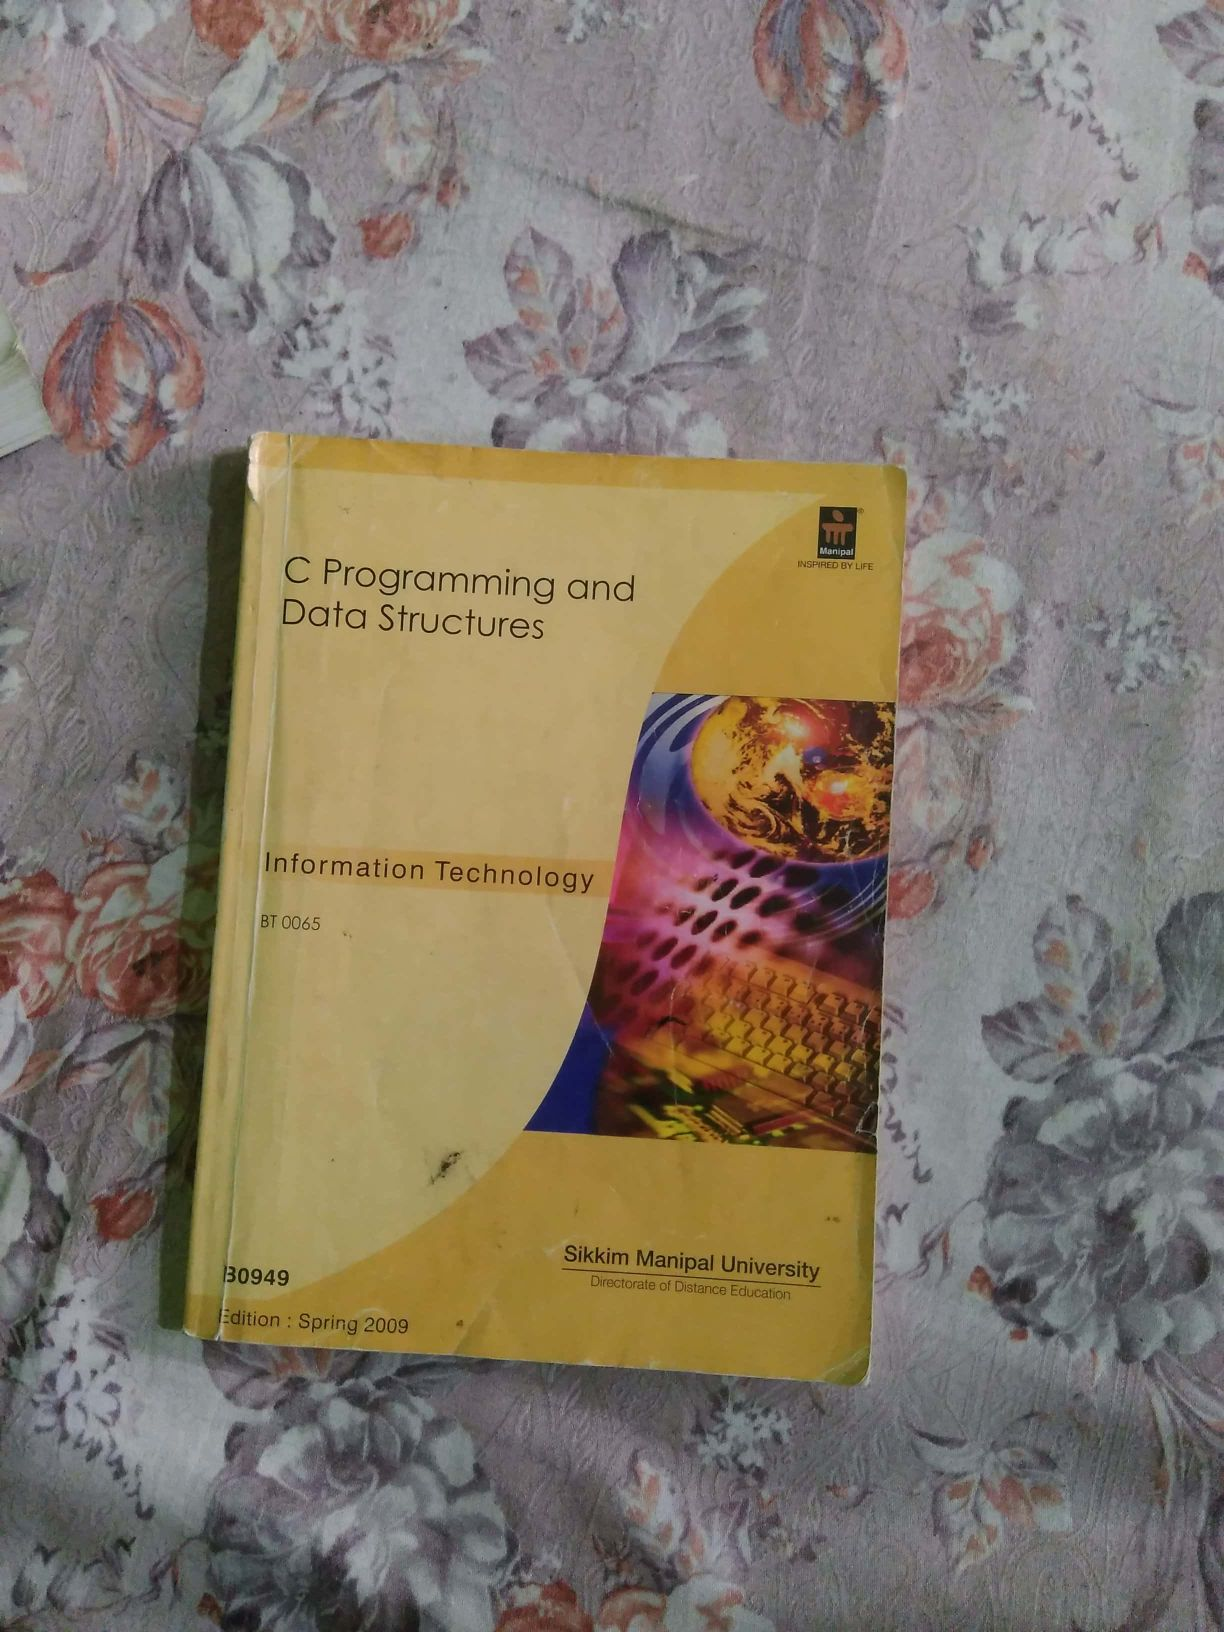clang: (193, 383, 926, 1475)
